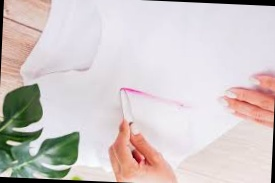lipstick: (118, 84, 193, 102)
